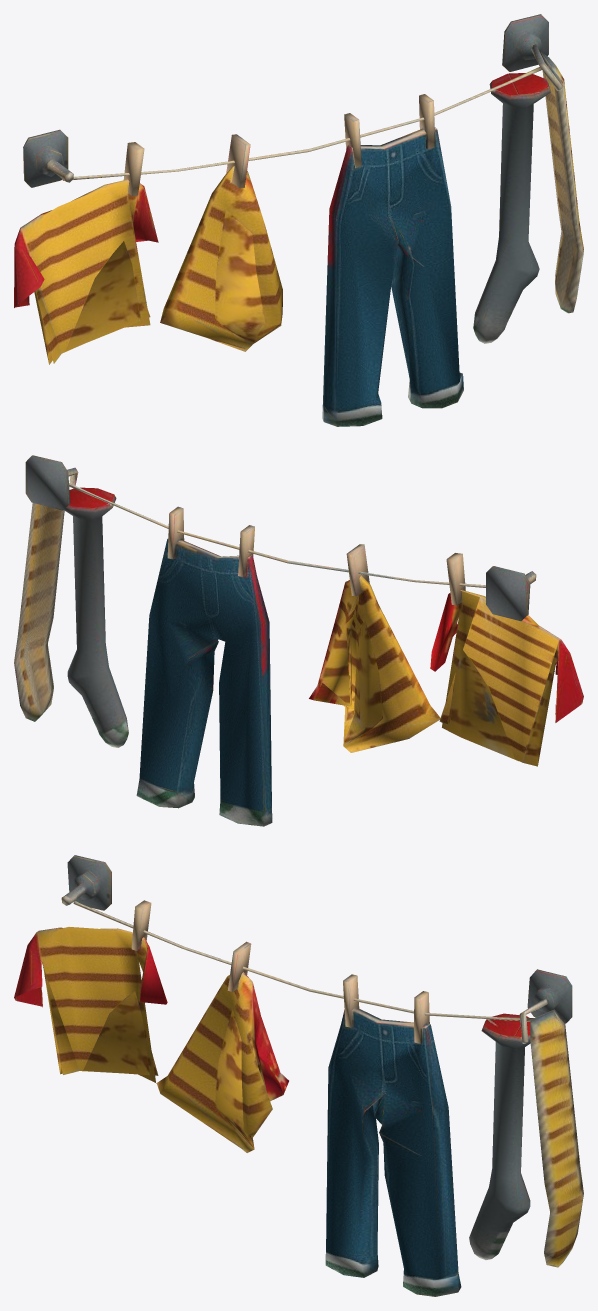
File: laundry_line.glb
3 views of the same model, one above another, from view 1: azimuth 30°, elevation 25°; view 2: azimuth 150°, elevation 25°; view 3: azimuth 330°, elevation 25° (orthographic). The views are drawn at different scales.
Size of the model in its own units: 2.6 by 1.49 by 0.2908.
Materials: 1 (1 with a texture image).
